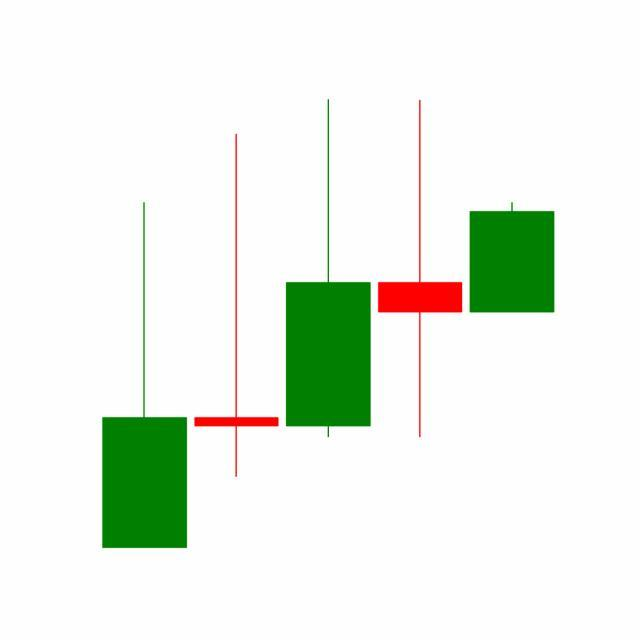Spinning Top: (374, 97, 468, 442)
